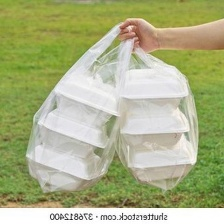foam_box: (23, 135, 108, 194), (34, 105, 116, 162), (50, 75, 124, 131), (122, 132, 198, 184), (116, 64, 190, 117), (114, 104, 194, 150)
plastic_bag: (21, 18, 144, 200), (115, 22, 199, 196)
